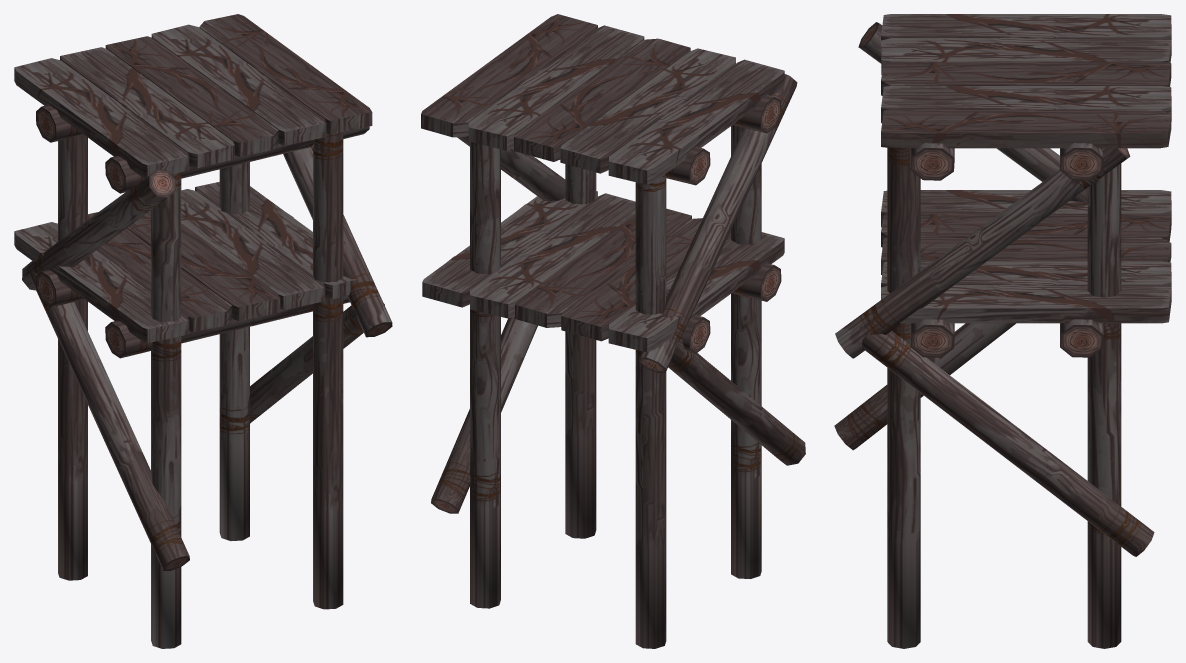
File: square.fbx
3 views of the same model, side by side, from view 1: azimuth 30°, elevation 25°; view 2: azimuth 150°, elevation 25°; view 3: azimuth 270°, elevation 25° (orthographic). The views are drawn at different scales.
Visible parts, largest first — view 1: Scaffolding_square1.003, Scaffolding_square1.001, Scaffolding_square1.002; view 2: Scaffolding_square1.003, Scaffolding_square1.001, Scaffolding_square1.002; view 3: Scaffolding_square1.003, Scaffolding_square1.001, Scaffolding_square1.002.
Part boxes in pixels (x1,y1,x2,y2): Scaffolding_square1.003: (22, 105, 392, 648); Scaffolding_square1.001: (14, 14, 372, 178); Scaffolding_square1.002: (14, 182, 369, 343); Scaffolding_square1.003: (431, 74, 805, 648); Scaffolding_square1.001: (421, 14, 784, 184); Scaffolding_square1.002: (422, 191, 784, 352); Scaffolding_square1.003: (834, 22, 1154, 648); Scaffolding_square1.001: (881, 14, 1171, 148); Scaffolding_square1.002: (881, 190, 1171, 323).
Size of the model in its own units: 1347 by 2591 by 1502.
